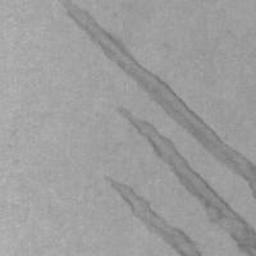Water spot: (63, 0, 256, 198), (116, 106, 256, 256), (111, 179, 205, 256)
